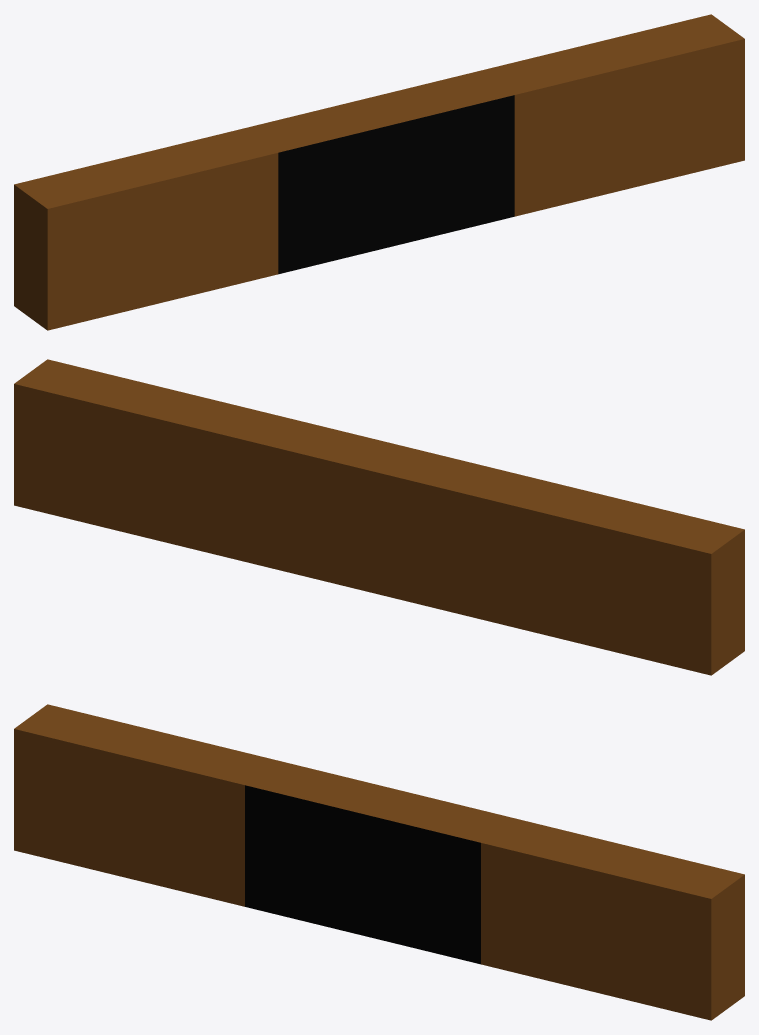
File: table_wall_N.obj
3 renders of one model, top to bottom at view 1: azimuth 30°, elevation 25°; view 2: azimuth 150°, elevation 25°; view 3: azimuth 330°, elevation 25°, orthographic.
Parts seen in each view (by area): view 1: wall_north; view 2: wall_north; view 3: wall_north.
Part boxes in pixels (x1,y1,x2,y2): wall_north: (14,14,744,330); wall_north: (14,359,744,675); wall_north: (14,704,744,1020).
Size of the model in its own units: 6 by 1 by 0.5.
